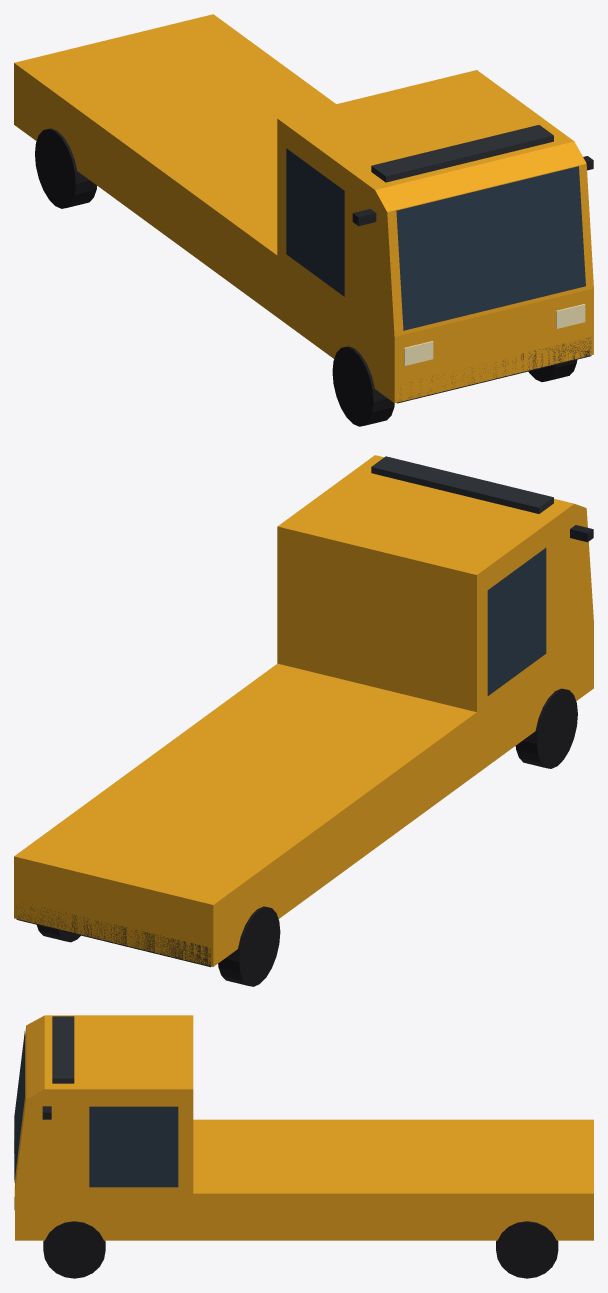
File: recovery_truck.glb
3 views of the same model, one above another, from view 1: azimuth 30°, elevation 25°; view 2: azimuth 150°, elevation 25°; view 3: azimuth 270°, elevation 25° (orthographic). The views are drawn at different scales.
Visible parts, largest first — view 1: body, glass_screen, glass_side.001, beacon_bar, wheel_1_L_tyre, wheel_0_L_tyre, bumper_nose, wheel_1_R_tyre, head_R, head_L; view 2: body, glass_side.001, beacon_bar, wheel_1_L_tyre, wheel_0_L_tyre, bumper_tail; view 3: body, glass_side, wheel_0_R_tyre, wheel_1_R_tyre, beacon_bar, glass_screen.
Boxes of the visible parts, left/top/right/bottom form: body: left=14, top=14, right=593, bottom=403; glass_screen: left=396, top=166, right=585, bottom=330; glass_side.001: left=286, top=148, right=344, bottom=296; beacon_bar: left=371, top=125, right=553, bottom=182; wheel_1_L_tyre: left=332, top=346, right=394, bottom=426; wheel_0_L_tyre: left=35, top=128, right=96, bottom=208; bumper_nose: left=397, top=337, right=591, bottom=403; wheel_1_R_tyre: left=528, top=359, right=577, bottom=381; head_R: left=556, top=304, right=585, bottom=328; head_L: left=404, top=341, right=433, bottom=365; body: left=14, top=455, right=593, bottom=966; glass_side.001: left=487, top=548, right=546, bottom=695; beacon_bar: left=371, top=456, right=553, bottom=513; wheel_1_L_tyre: left=515, top=688, right=577, bottom=768; wheel_0_L_tyre: left=218, top=906, right=280, bottom=986; bumper_tail: left=16, top=906, right=211, bottom=967; body: left=15, top=1015, right=593, bottom=1240; glass_side: left=89, top=1106, right=178, bottom=1187; wheel_0_R_tyre: left=496, top=1221, right=558, bottom=1278; wheel_1_R_tyre: left=43, top=1221, right=105, bottom=1278; beacon_bar: left=52, top=1016, right=74, bottom=1083; glass_screen: left=14, top=1031, right=24, bottom=1182.
Bounding box in the file's own units: 2.78 × 2.87 × 7.82.
